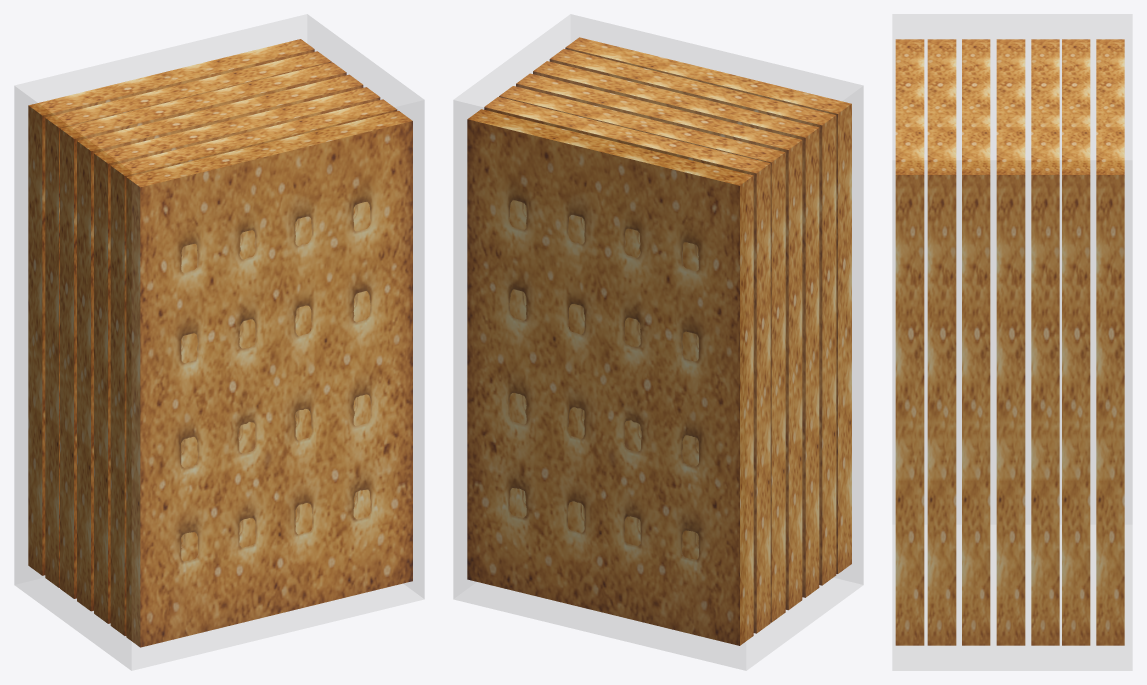
The model's file is Crackers.fbx.
The picture shows the model from 3 angles, left to right: view 1: azimuth 30°, elevation 25°; view 2: azimuth 150°, elevation 25°; view 3: azimuth 270°, elevation 25°; orthographic projection. The views are drawn at different scales.
Parts seen in each view (by area): view 1: Crackers.003, Cracker1.021, Cracker1.027, Cracker1.022, Cracker1.024, Cracker1.025, Cracker1.023, Cracker1.026; view 2: Crackers.003, Cracker1.027, Cracker1.026, Cracker1.023, Cracker1.024, Cracker1.022, Cracker1.021, Cracker1.025; view 3: Crackers.003, Cracker1.021, Cracker1.022, Cracker1.024, Cracker1.023, Cracker1.025, Cracker1.026, Cracker1.027.
Part boxes in pixels (x1,y1,x2,y2): Crackers.003: [14, 14, 424, 670]; Cracker1.021: [126, 110, 412, 647]; Cracker1.027: [28, 39, 314, 575]; Cracker1.022: [110, 99, 397, 635]; Cracker1.024: [77, 74, 363, 611]; Cracker1.025: [60, 62, 346, 598]; Cracker1.023: [94, 87, 380, 623]; Cracker1.026: [45, 51, 331, 587]; Crackers.003: [453, 14, 863, 670]; Cracker1.027: [467, 109, 753, 645]; Cracker1.026: [484, 97, 770, 633]; Cracker1.023: [533, 61, 819, 597]; Cracker1.024: [516, 73, 802, 610]; Cracker1.022: [549, 49, 836, 585]; Cracker1.021: [565, 37, 851, 573]; Cracker1.025: [499, 86, 785, 622]; Crackers.003: [892, 14, 1132, 670]; Cracker1.021: [895, 39, 924, 645]; Cracker1.022: [927, 39, 956, 645]; Cracker1.024: [996, 39, 1025, 645]; Cracker1.023: [962, 39, 990, 645]; Cracker1.025: [1031, 39, 1059, 645]; Cracker1.026: [1062, 39, 1090, 645]; Cracker1.027: [1096, 39, 1124, 645].
Bounding box in the file's own units: 0.3941 × 0.6417 × 0.2733.
2 materials, 1 textured.
